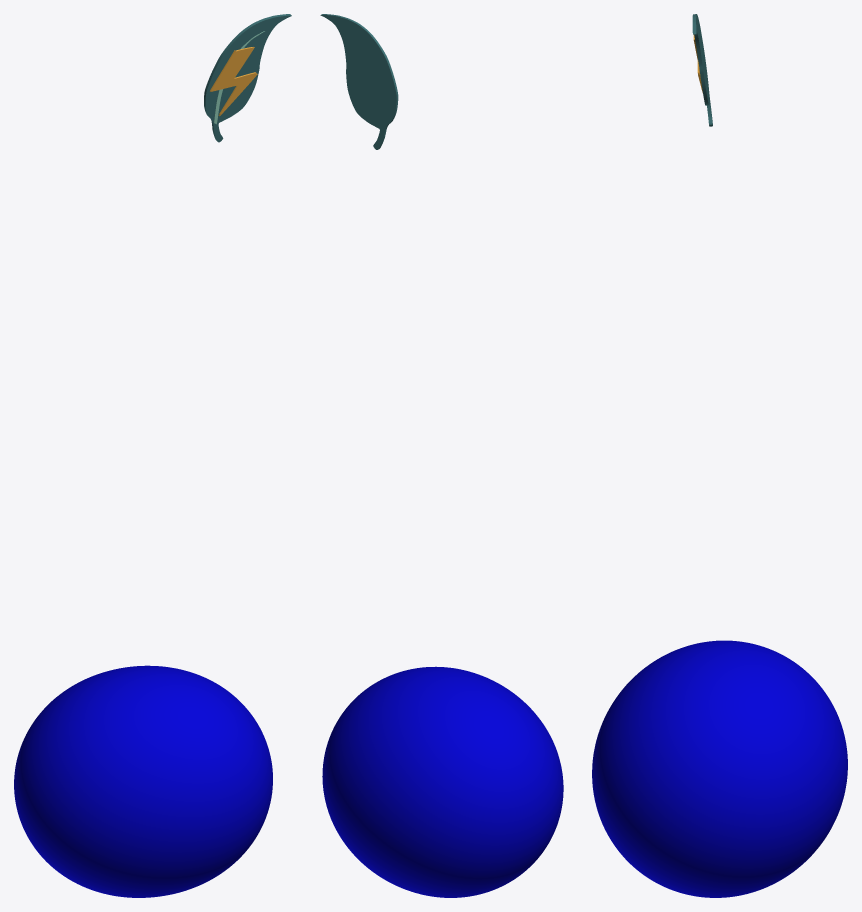
The model's file is h2_sim_en.glb.
3 views of the same model, side by side, from view 1: azimuth 30°, elevation 25°; view 2: azimuth 150°, elevation 25°; view 3: azimuth 270°, elevation 25° (orthographic). The views are drawn at different scales.
Parts seen in each view (by area): view 1: h2_sim_en, path182, path186; view 2: h2_sim_en, path182; view 3: h2_sim_en, path182.
Part boxes in pixels (x1,y1,x2,y2): h2_sim_en: (14, 665, 272, 897); path182: (204, 14, 291, 142); path186: (210, 47, 257, 116); h2_sim_en: (322, 666, 563, 897); path182: (320, 14, 398, 149); h2_sim_en: (592, 640, 847, 897); path182: (692, 14, 712, 126).
Size of the model in its own units: 1.79 by 5.86 by 1.47.
